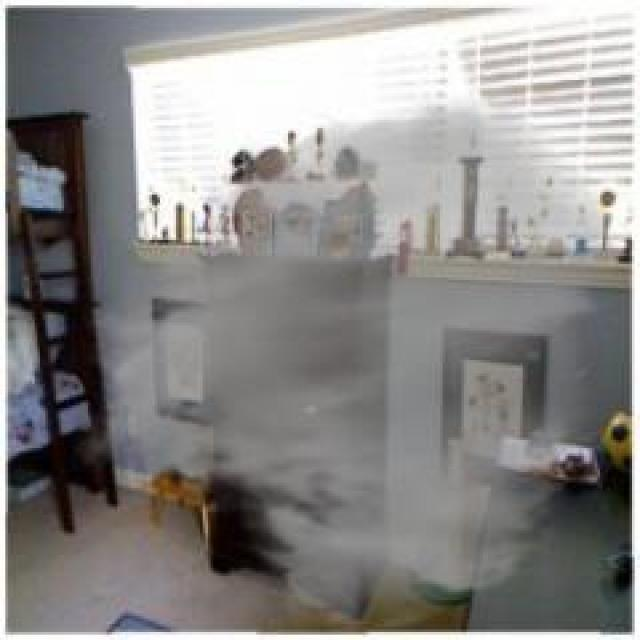Smoke: (70, 90, 622, 634)
